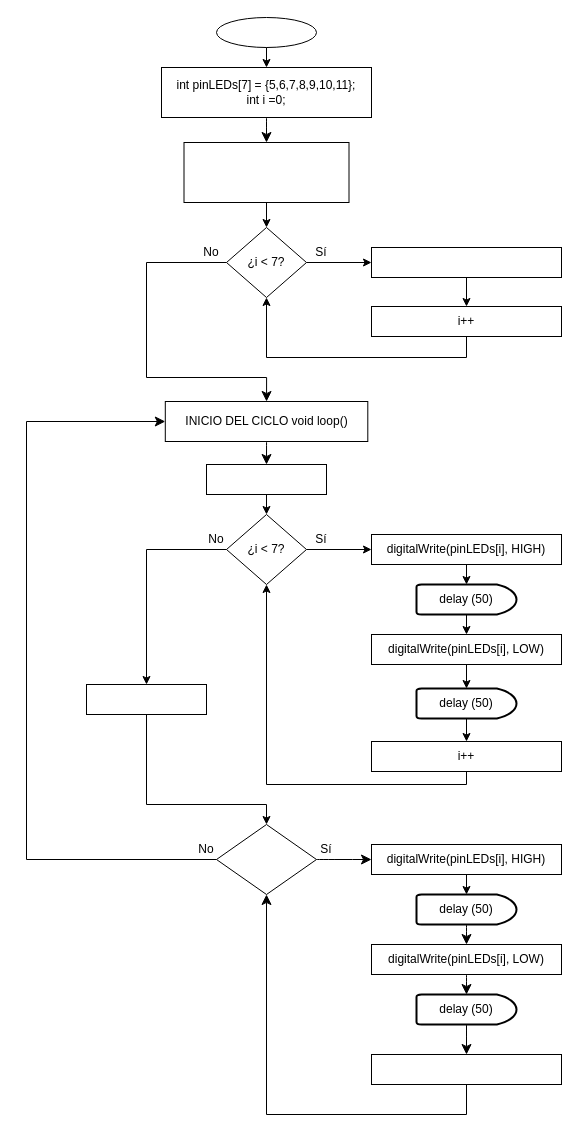
The diagram is 579 pixels wide and 1142 high, and some of its shapes have lost their labels. Each missing label, with the centre of its shape:
"CONFIGURACIÓN (setup) i=0" belongs at [266,172].
"i = 0" belongs at [266,479].
"i = 6" belongs at [146,699].
"i--" belongs at [466,1069].
"Inicio" belongs at [266,32].
"pinMode(pinLEDs[i], OUTPUT)" belongs at [466,262].
"¿i >= 0?" belongs at [266,859].
